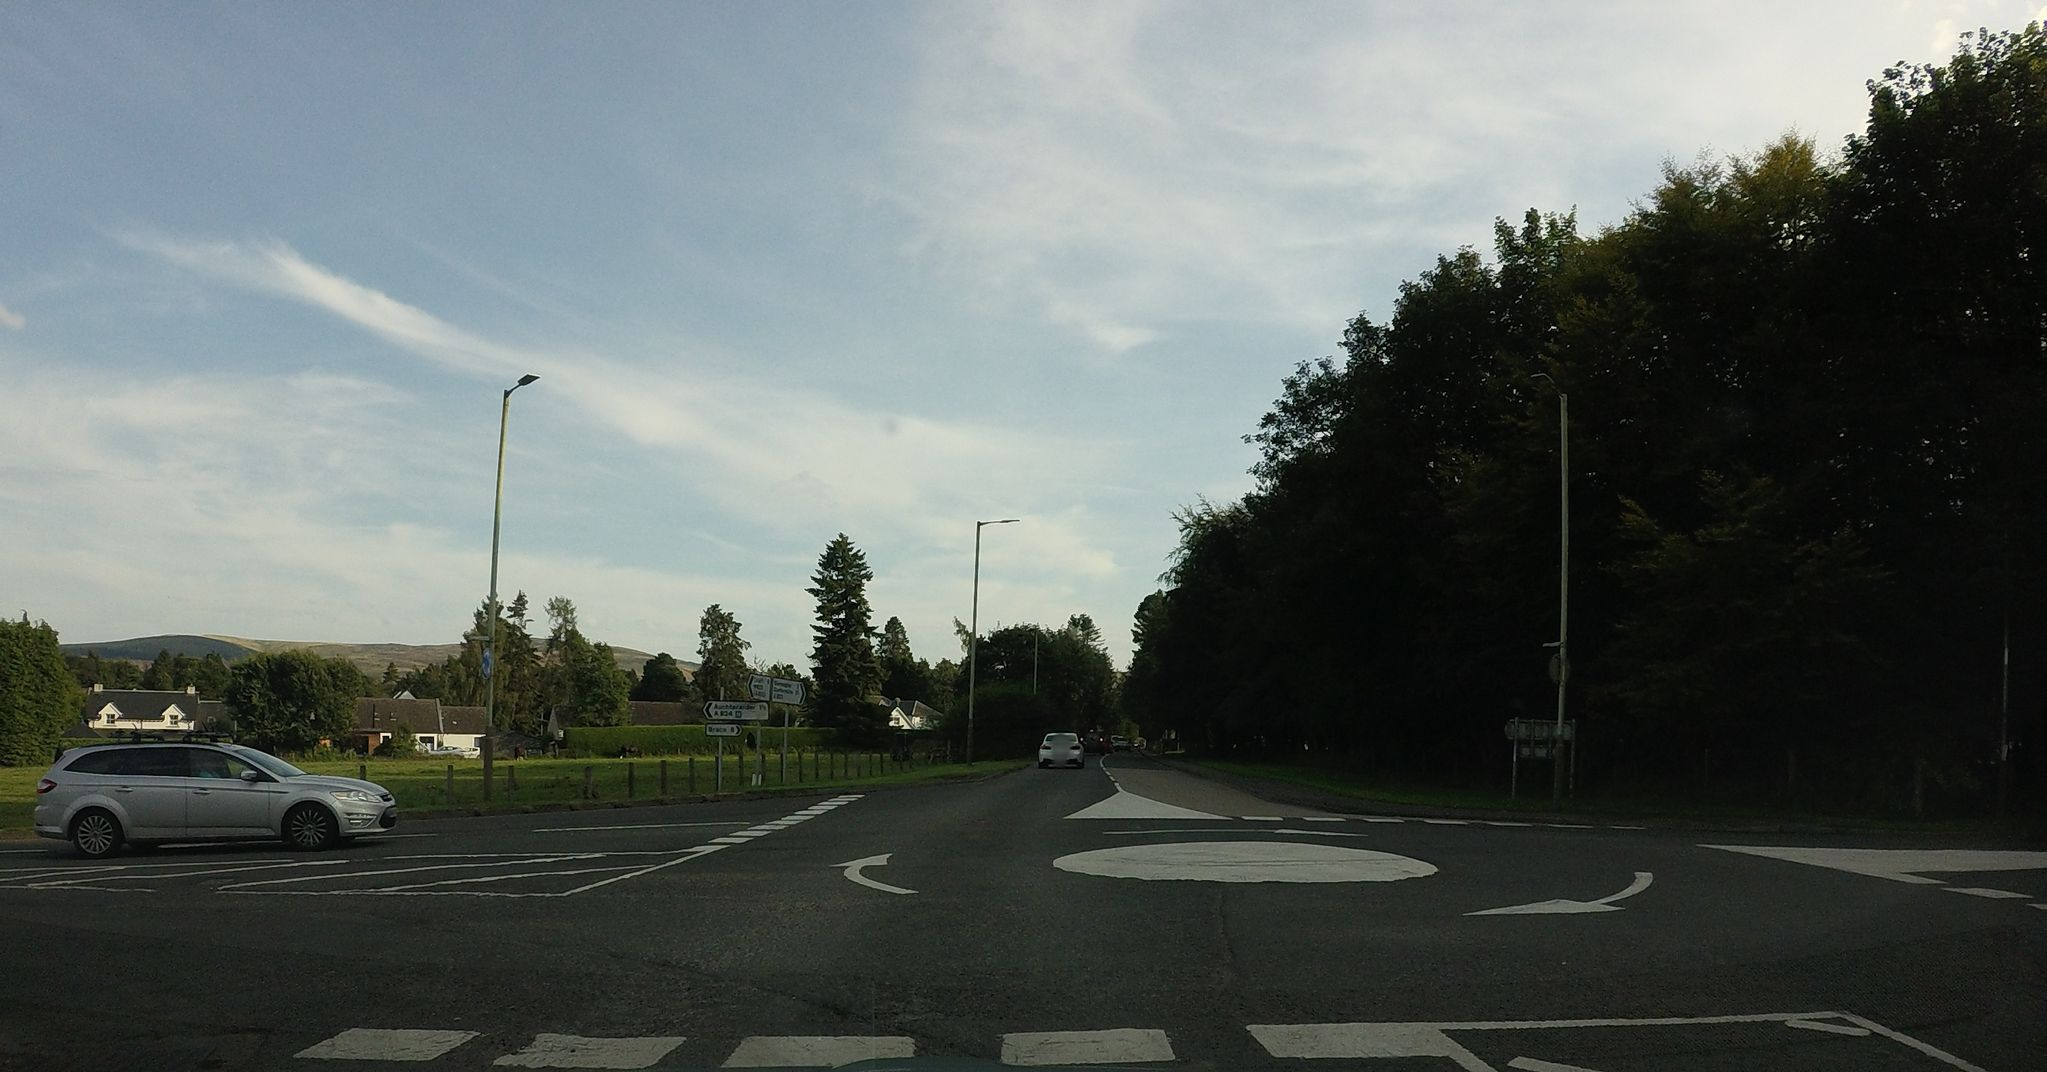car: (32, 738, 398, 854), (1038, 731, 1084, 767)
